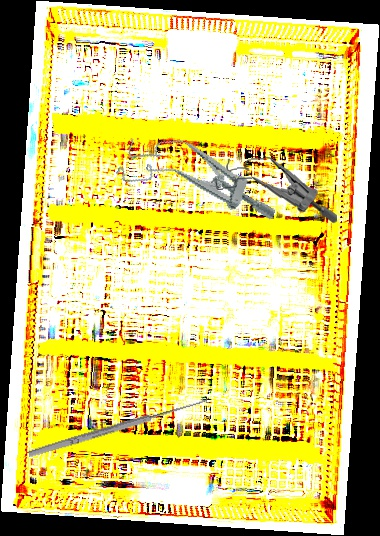Hook Surgical: (25, 389, 206, 461)
Speculum: (114, 124, 287, 231), (209, 149, 338, 233)
